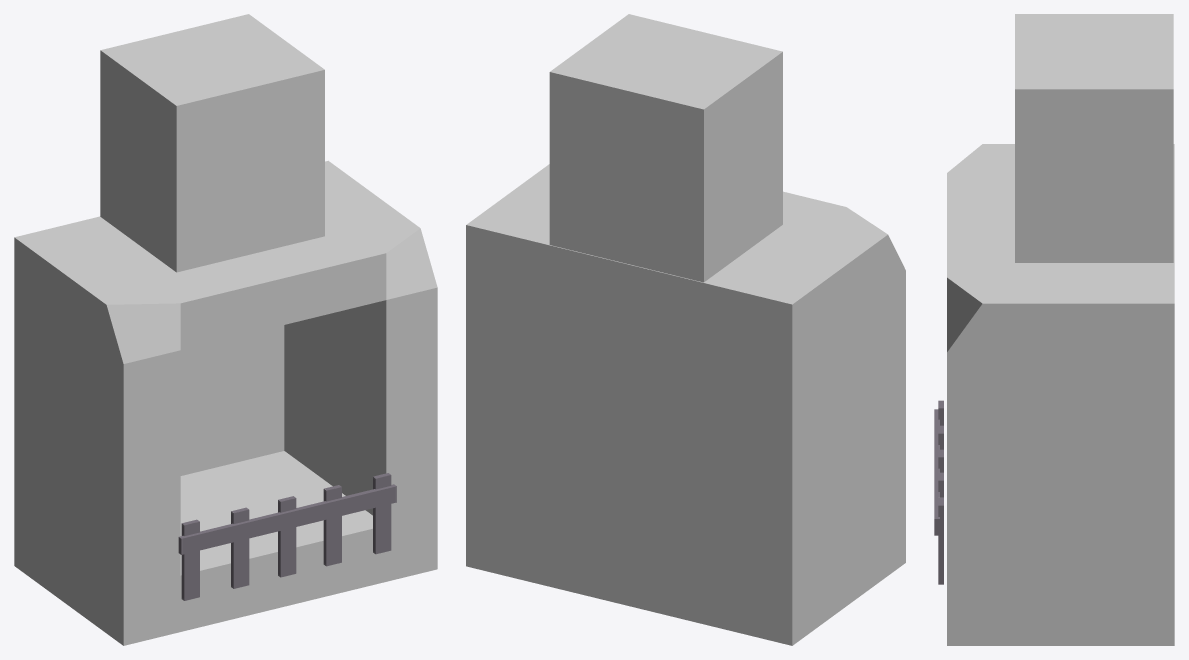
Rendered from FirePlace.fbx.
3 renders of one model, left to right at view 1: azimuth 30°, elevation 25°; view 2: azimuth 150°, elevation 25°; view 3: azimuth 270°, elevation 25°, orthographic. The views are drawn at different scales.
Parts seen in each view (by area): view 1: FirePlace, Cube.005; view 2: FirePlace; view 3: FirePlace, Cube.005.
Part boxes in pixels (x1,y1,x2,y2): FirePlace: [14, 14, 437, 645]; Cube.005: [178, 473, 396, 600]; FirePlace: [466, 14, 905, 645]; FirePlace: [947, 14, 1174, 645]; Cube.005: [934, 400, 943, 584].
Size of the model in its own units: 200 by 301 by 127.
